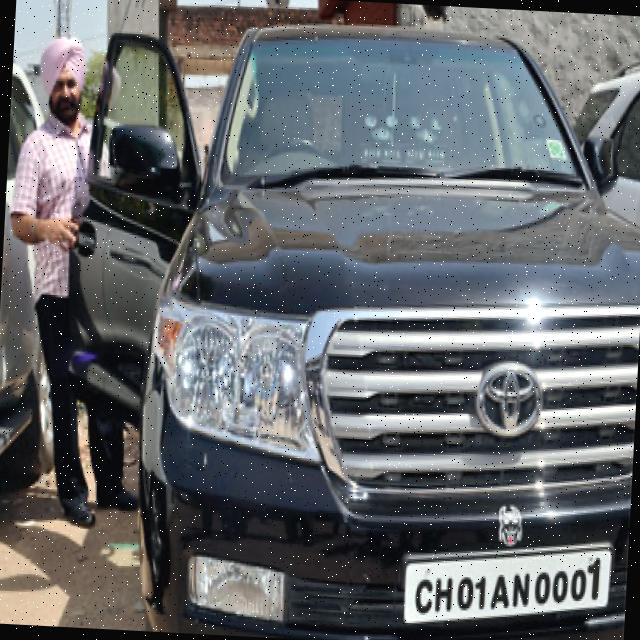Autre: (409, 546, 611, 626)
